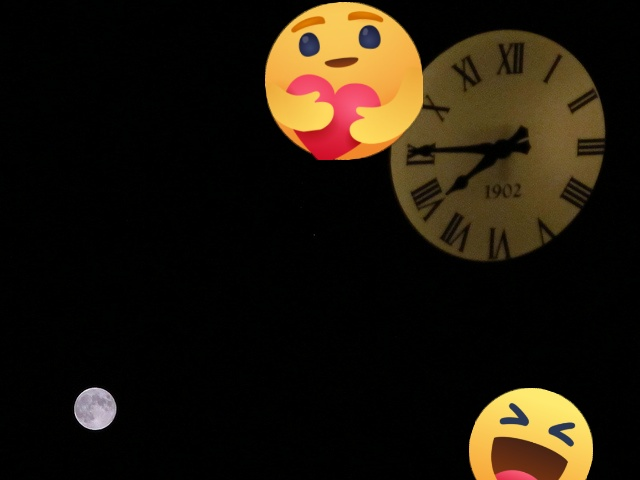care: (265, 2, 423, 160)
haha: (469, 388, 593, 480)
